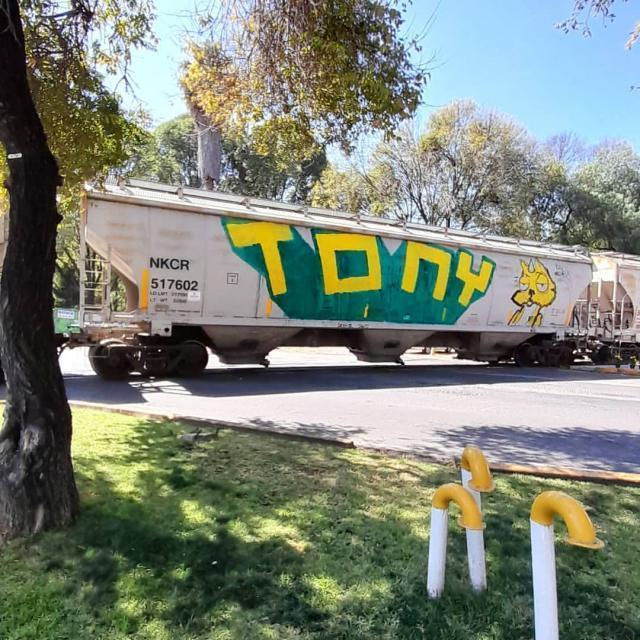nonspitting: (227, 222, 495, 310)
spitting: (510, 260, 557, 326)
